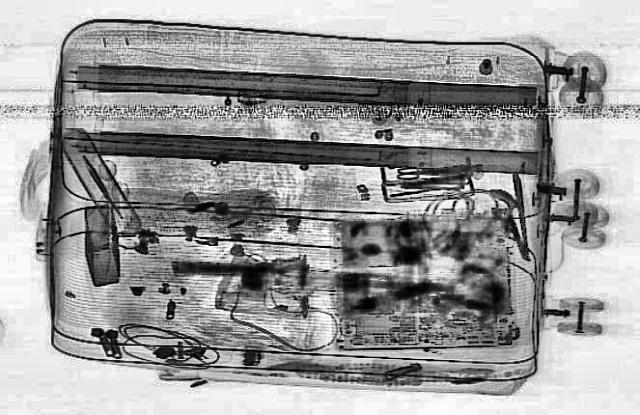Scissors: (395, 164, 451, 180)
